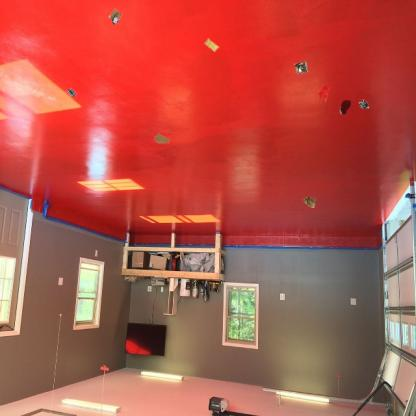dirty: (107, 7, 124, 25), (202, 37, 220, 52), (153, 132, 170, 145), (302, 195, 317, 208), (293, 61, 308, 74), (65, 86, 78, 98), (358, 98, 369, 108)
liquid: (317, 84, 331, 102), (338, 99, 352, 115)
